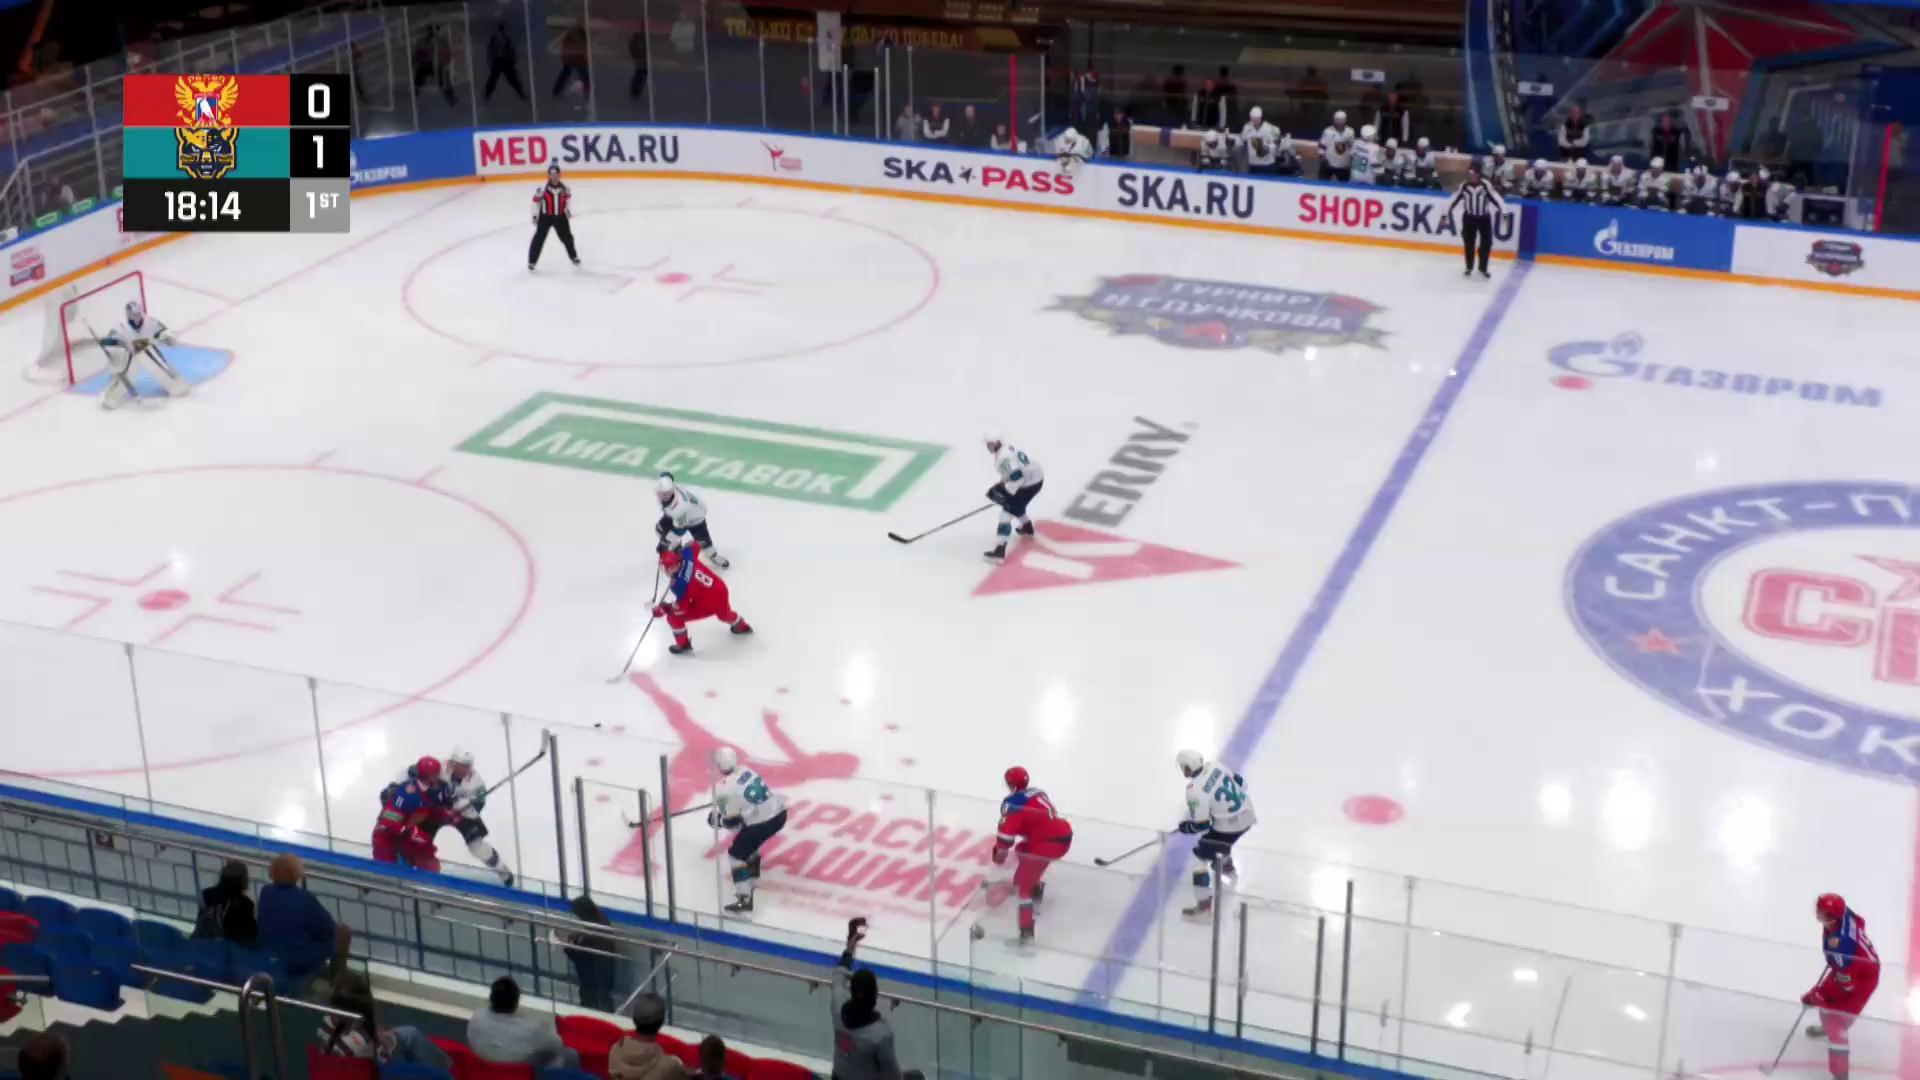ball: (592, 723, 603, 728)
